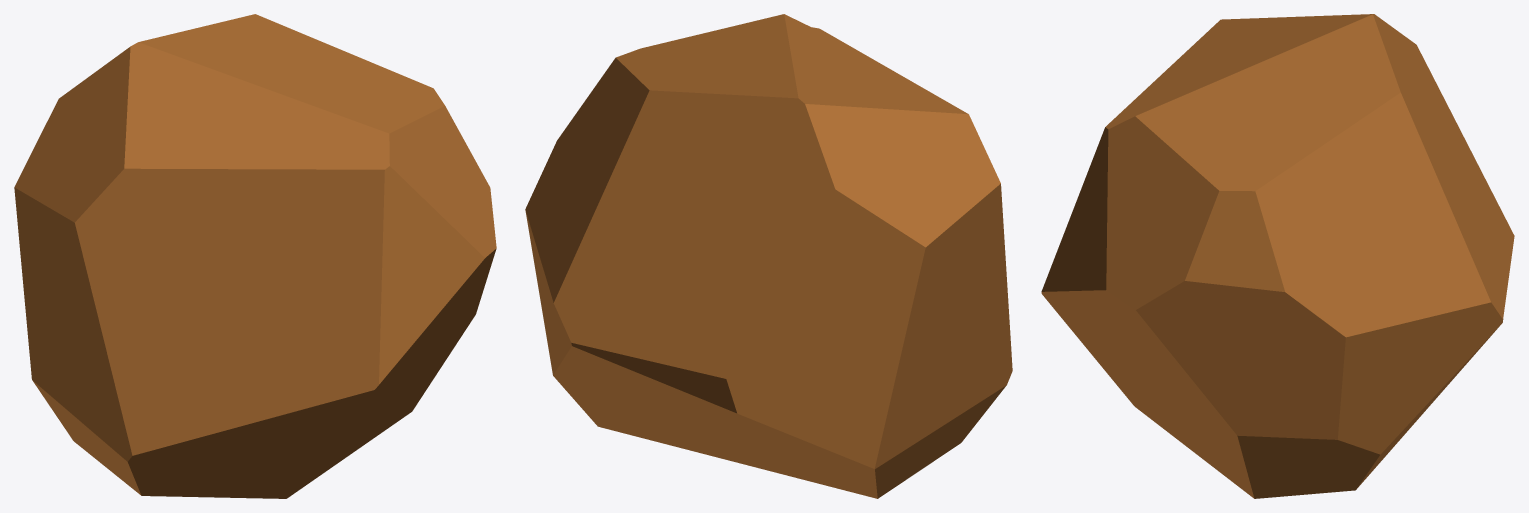
The model's file is HardRock_43.fbx.
The picture shows the model from 3 angles, left to right: view 1: azimuth 30°, elevation 25°; view 2: azimuth 150°, elevation 25°; view 3: azimuth 270°, elevation 25°; orthographic projection. The views are drawn at different scales.
Visible parts, largest first — view 1: HardRock_43; view 2: HardRock_43; view 3: HardRock_43.
Boxes of the visible parts, x1,y1,x2,y2 form: HardRock_43: (14, 14, 496, 498); HardRock_43: (525, 14, 1012, 498); HardRock_43: (1041, 14, 1514, 498).
Bounding box in the file's own units: 92.67 × 81.86 × 92.49.
